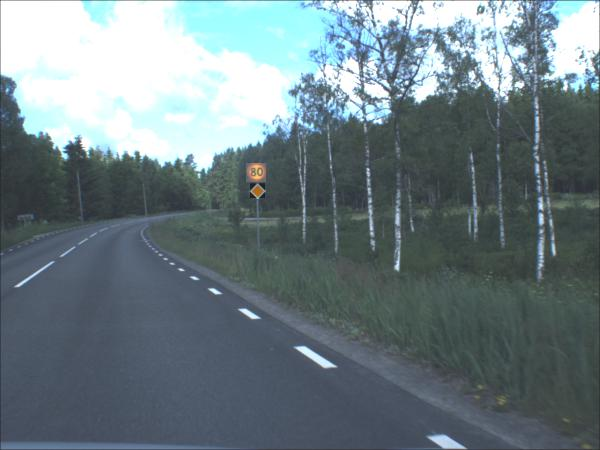80_SIGN: (247, 165, 268, 185)
PRIORITY_ROAD: (251, 184, 267, 200)
